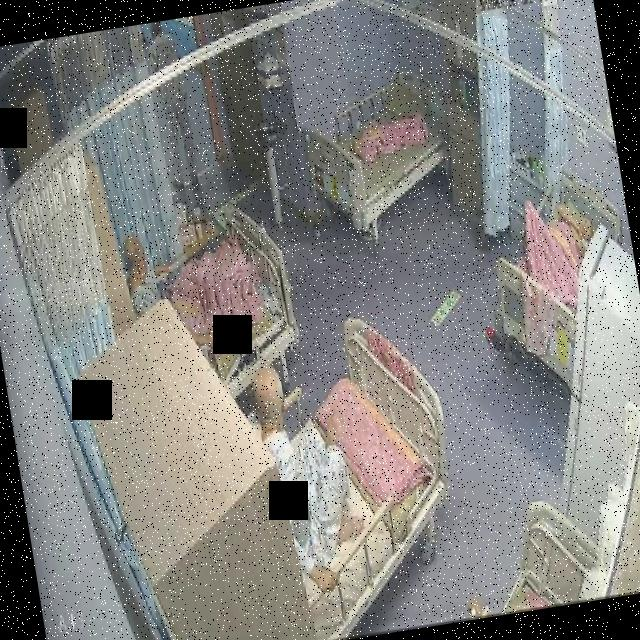bed: (234, 310, 476, 640), (473, 162, 640, 396), (145, 206, 304, 408), (298, 61, 463, 239)
patient: (247, 351, 375, 602), (120, 226, 220, 367), (140, 18, 204, 196)
sit: (246, 348, 373, 602), (120, 219, 272, 365)
stand: (140, 18, 204, 196)
